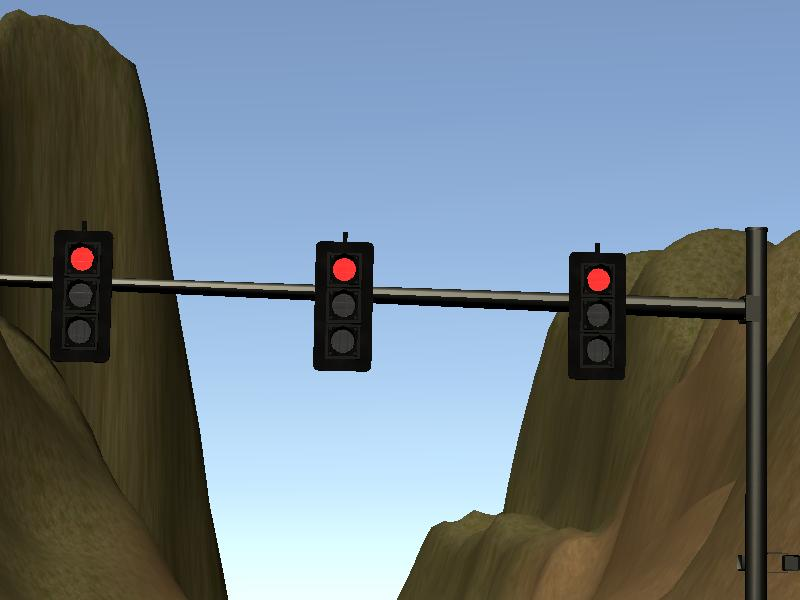red: (314, 238, 373, 373), (52, 228, 110, 362), (567, 249, 626, 380)
